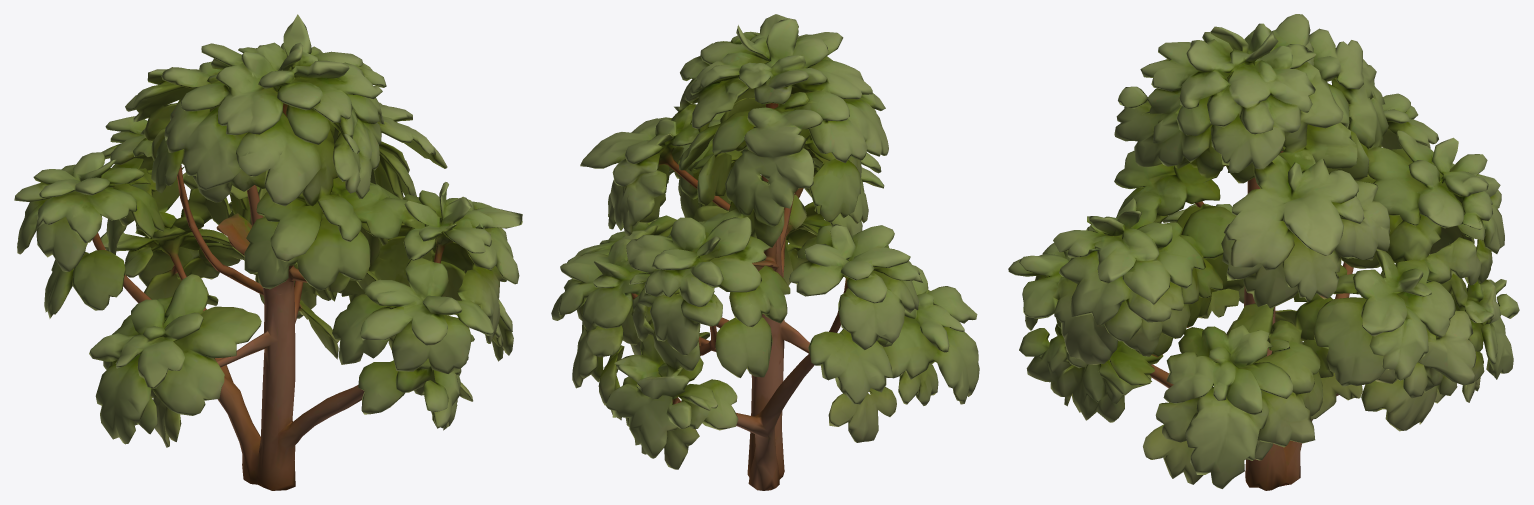
The model's file is shrub-irregular.glb.
3 renders of one model, left to right at view 1: azimuth 30°, elevation 25°; view 2: azimuth 150°, elevation 25°; view 3: azimuth 270°, elevation 25°, orthographic. The views are drawn at different scales.
Parts seen in each view (by area): view 1: tripo_node_5c83093c-9cbe-4cbb-9507-22dbe46c9d9e; view 2: tripo_node_5c83093c-9cbe-4cbb-9507-22dbe46c9d9e; view 3: tripo_node_5c83093c-9cbe-4cbb-9507-22dbe46c9d9e.
Boxes of the visible parts, bbox=[...] form: tripo_node_5c83093c-9cbe-4cbb-9507-22dbe46c9d9e: bbox=[14, 14, 522, 490]; tripo_node_5c83093c-9cbe-4cbb-9507-22dbe46c9d9e: bbox=[551, 14, 979, 490]; tripo_node_5c83093c-9cbe-4cbb-9507-22dbe46c9d9e: bbox=[1008, 14, 1519, 490].
Bounding box in the file's own units: 1.11 × 1.2 × 1.2.
1 material, 1 textured.
